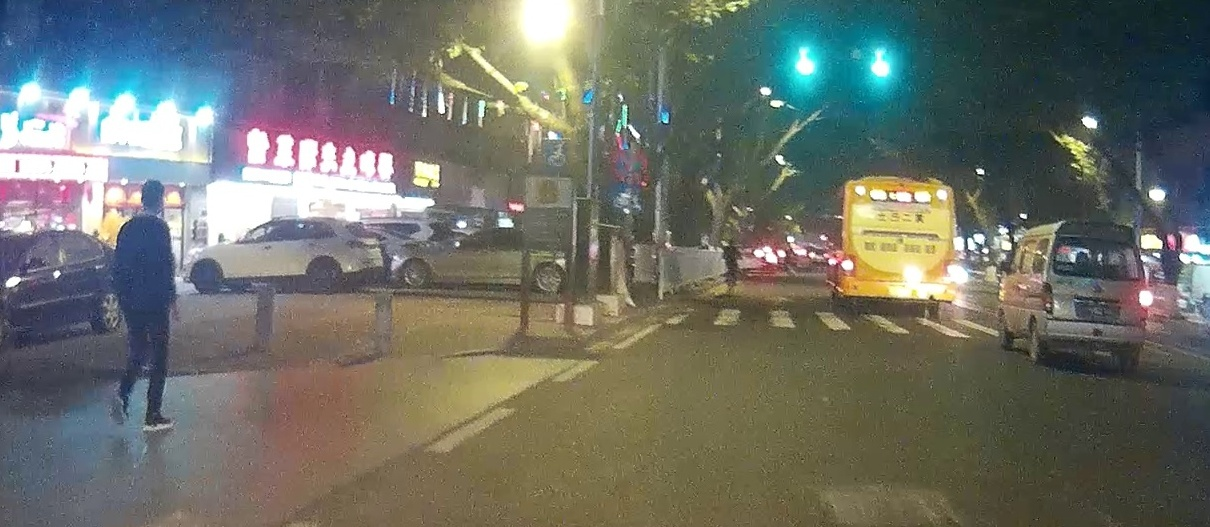L_light: (841, 255, 858, 277), (1041, 282, 1053, 313)
R_light: (1137, 290, 1152, 319), (943, 259, 955, 286)
T_light: (1092, 274, 1114, 279), (894, 202, 913, 206)
night-right: (1041, 220, 1153, 371), (841, 176, 955, 318)
